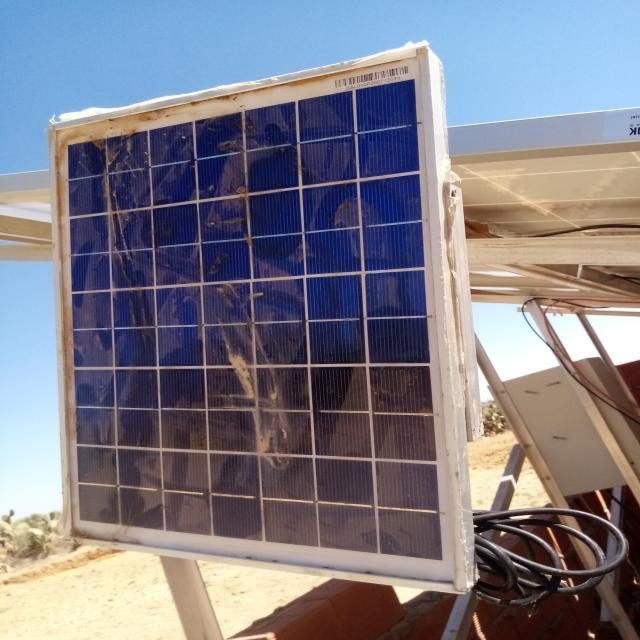faulty: (53, 51, 457, 591)
